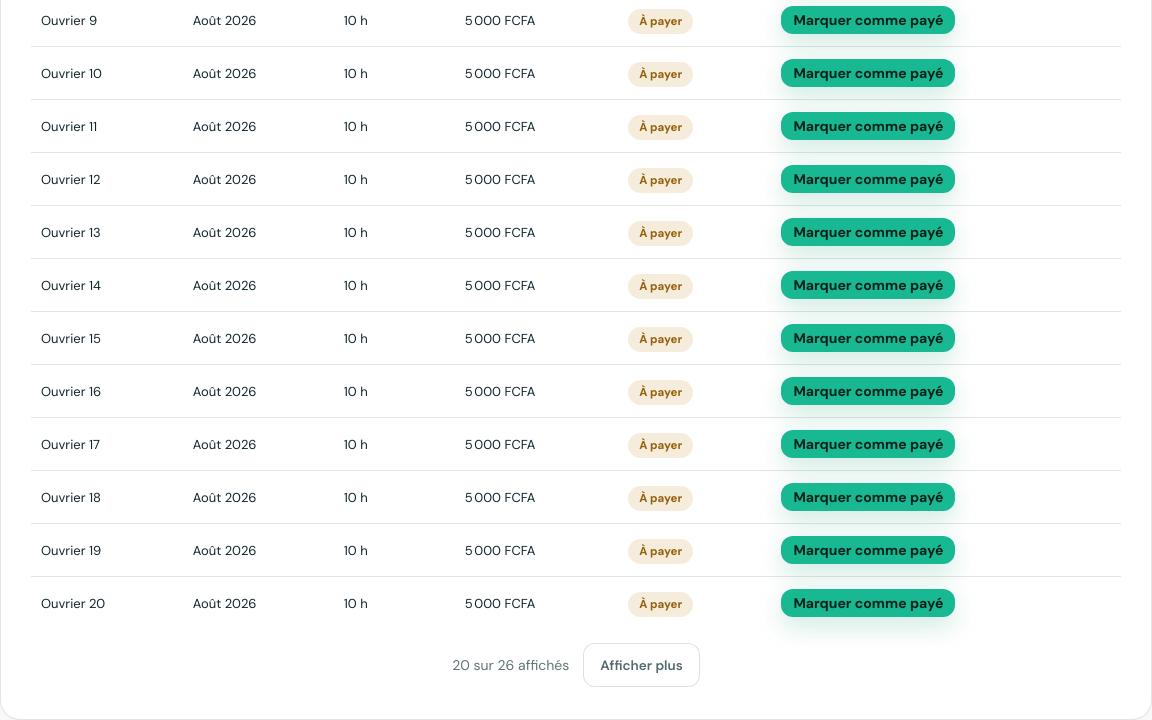
it: SalairesSection › a payment from page 2 marked paid changes in place; the list keeps its 26 rows
(page scrolled)
Expected: the text "20 sur 26 affichés" is shown, [452, 656, 569, 674]
Click the button "Afficher plus". click: (642, 665)
box: [583, 643, 700, 687]
(page scrolled)
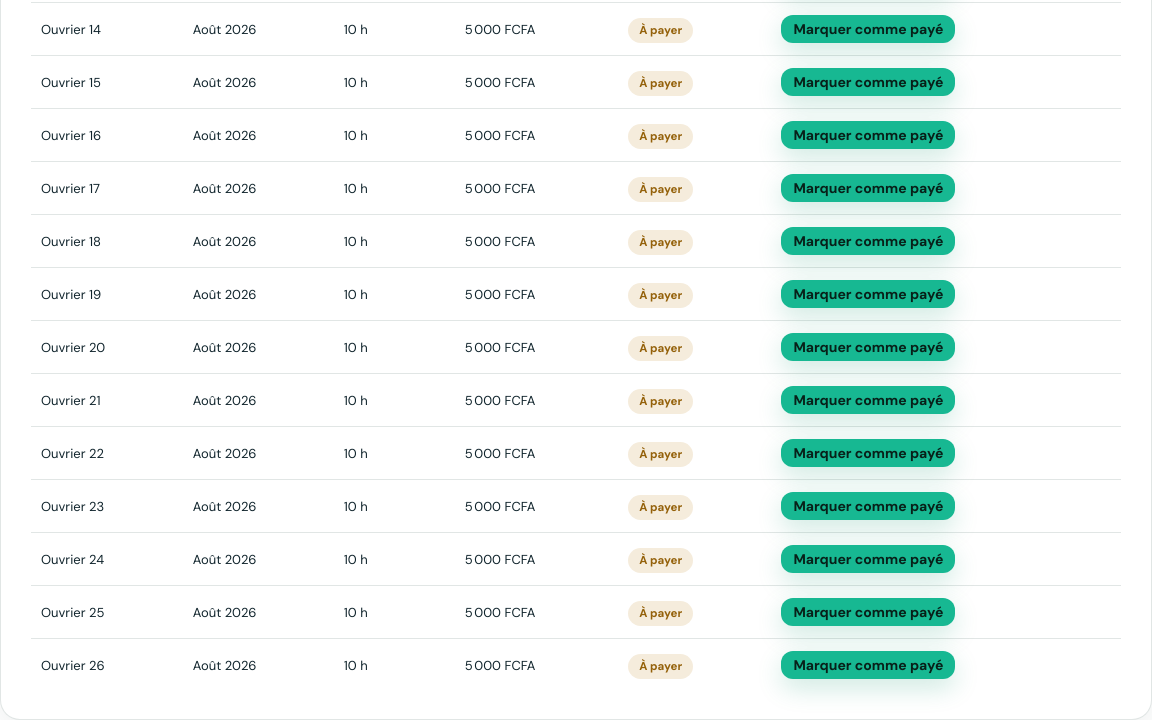
Click the button "Marquer comme payé" in the row of "Ouvrier 24". click: (868, 559)
box: [781, 545, 955, 573]
(page scrolled)
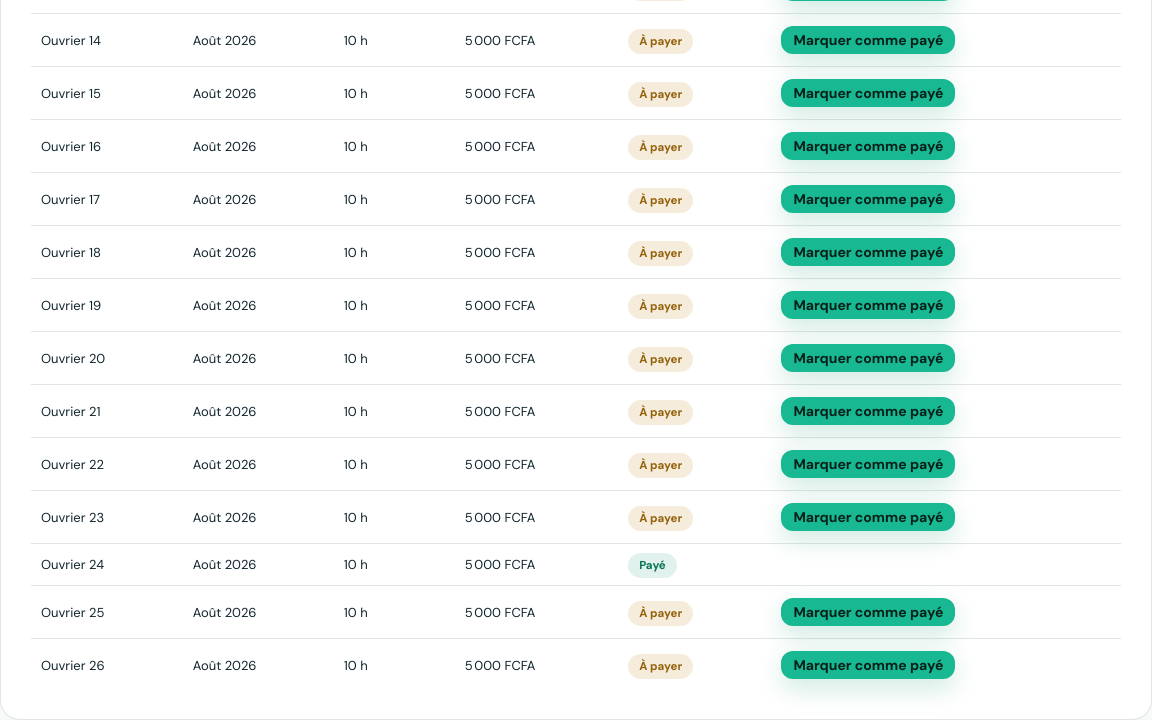
Now the text "Payé" is shown, box [628, 553, 677, 578]
